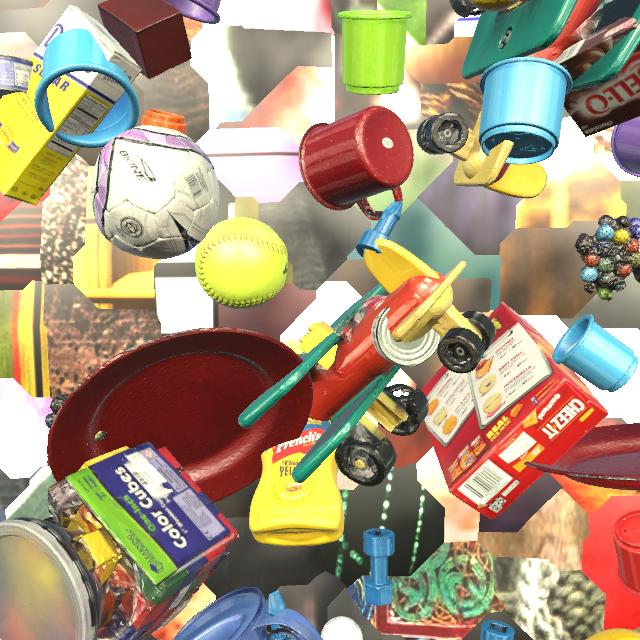ycb_003_cracker_box: (421, 302, 609, 519)
ycb_004_sugar_box: (0, 5, 142, 206)
ycb_005_tomato_soup_can: (361, 295, 441, 367)
ycb_006_mustard_bottle: (249, 418, 344, 547)
ycb_007_tuna_fish_can: (0, 55, 33, 99)
ycb_008_pudding_box: (554, 17, 640, 137)
ycb_011_banana: (585, 628, 640, 640)
ycb_014_lemon: (470, 0, 519, 12)
